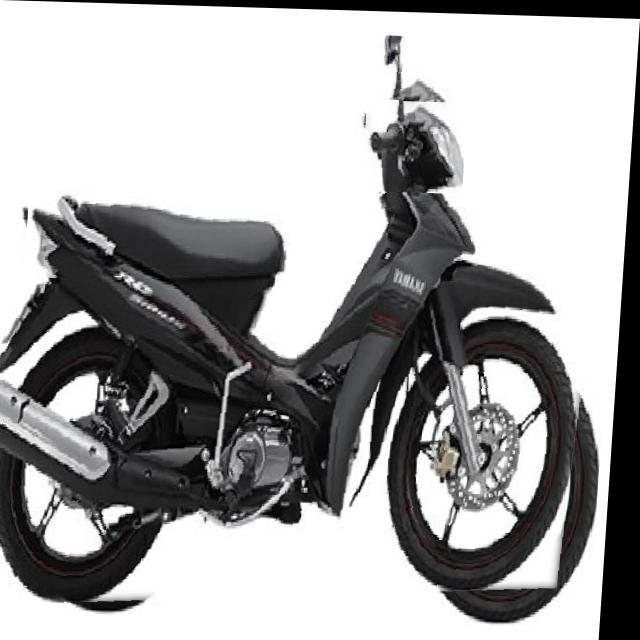All: (0, 24, 628, 622)
Head: (363, 97, 470, 191)
Tail: (27, 186, 116, 281)
